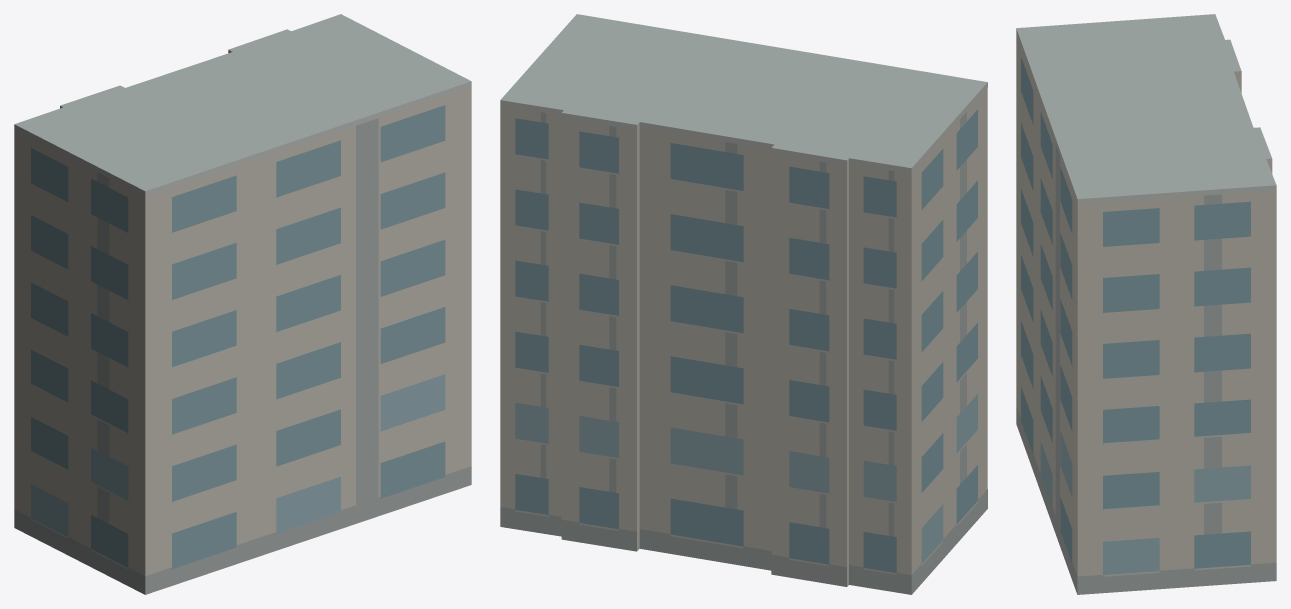
The model's file is survey-upis-32807967.glb.
The picture shows the model from 3 angles, left to right: view 1: azimuth 30°, elevation 25°; view 2: azimuth 150°, elevation 25°; view 3: azimuth 270°, elevation 25°; orthographic projection. The views are drawn at different scales.
Parts seen in each view (by area): view 1: survey-upis-32807967.tmp; view 2: survey-upis-32807967.tmp; view 3: survey-upis-32807967.tmp.
Boxes of the visible parts, x1=… form: survey-upis-32807967.tmp: x1=14, y1=14, x2=471, y2=594; survey-upis-32807967.tmp: x1=500, y1=14, x2=987, y2=594; survey-upis-32807967.tmp: x1=1016, y1=14, x2=1276, y2=594.
Size of the model in its own units: 18.37 by 18.3 by 10.92.
